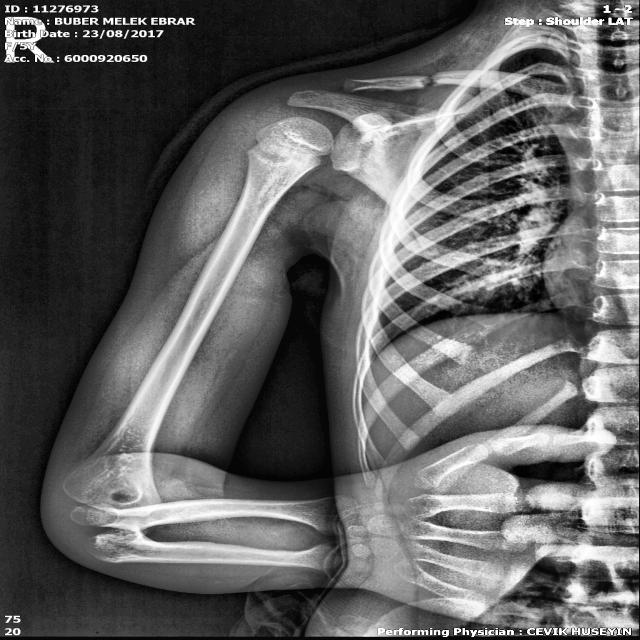Fracture: (392, 61, 462, 95)
